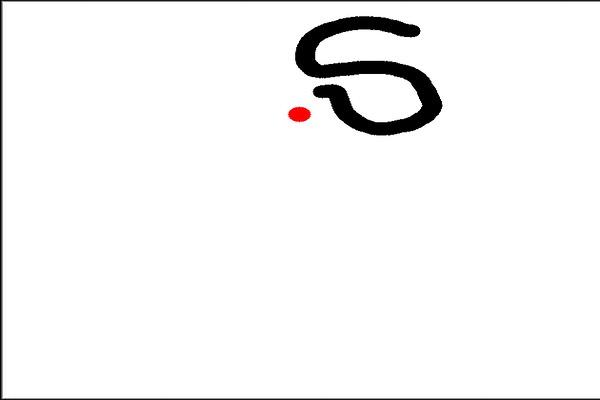S: (292, 10, 448, 137)
